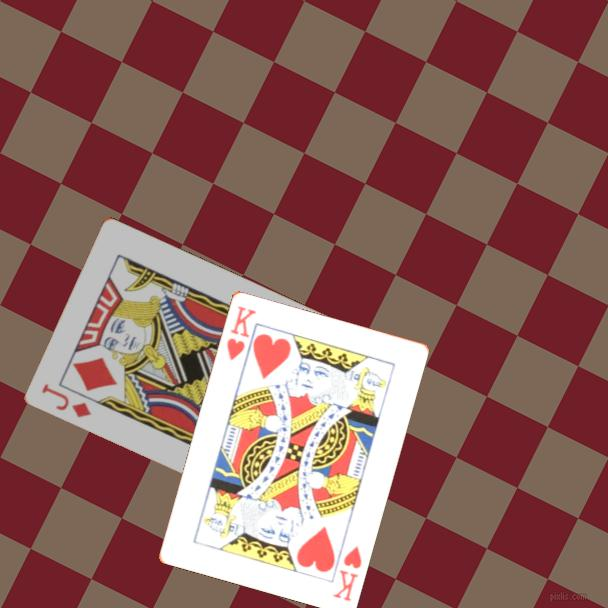d11: (38, 380, 95, 421)
h13: (223, 302, 259, 363), (329, 542, 364, 604)
